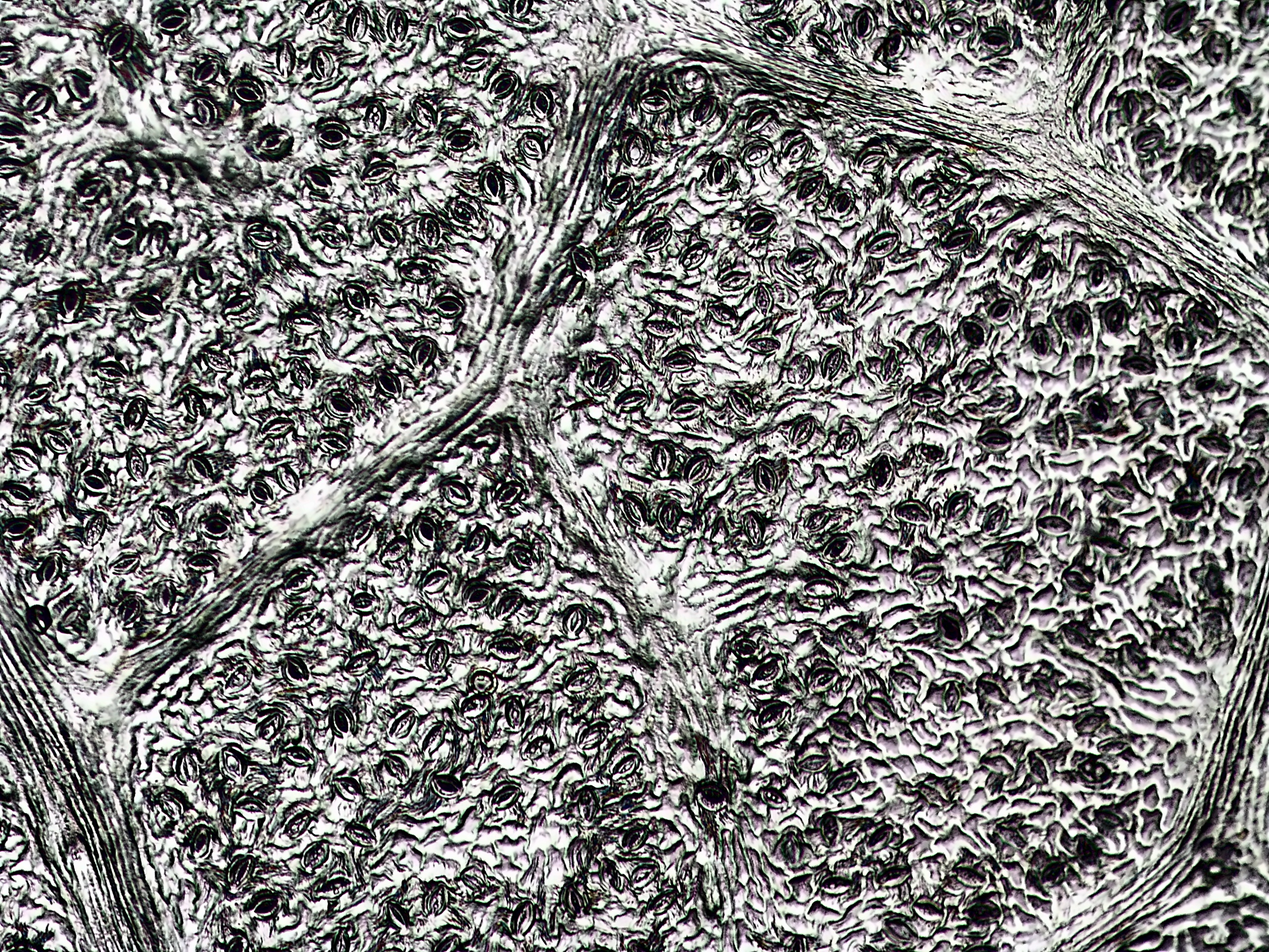stomata: (61, 66, 95, 103), (882, 915, 922, 946), (1065, 299, 1096, 339), (101, 22, 133, 60), (1185, 146, 1216, 185), (256, 125, 292, 158), (937, 609, 969, 644), (115, 592, 146, 628), (1103, 476, 1140, 506), (58, 280, 85, 321), (316, 118, 351, 149), (131, 291, 166, 322), (694, 782, 730, 812), (803, 574, 844, 600), (422, 880, 450, 918), (239, 368, 278, 395), (187, 824, 215, 861), (122, 396, 149, 434), (235, 794, 273, 821), (509, 899, 536, 937), (1077, 759, 1113, 787), (344, 648, 381, 675), (1195, 299, 1221, 337), (245, 220, 279, 249), (1163, 326, 1192, 360), (1116, 91, 1145, 125), (173, 751, 201, 786), (388, 704, 416, 739), (656, 497, 684, 532), (782, 354, 813, 385), (942, 491, 973, 522), (750, 655, 781, 686), (641, 218, 671, 250), (1224, 181, 1253, 214), (424, 640, 452, 674), (1104, 294, 1129, 332), (1194, 432, 1232, 457), (316, 221, 351, 248), (398, 255, 433, 282), (681, 456, 716, 483), (530, 84, 557, 119), (230, 853, 254, 892), (1146, 452, 1176, 483), (795, 173, 827, 202), (125, 446, 150, 483), (789, 415, 817, 448), (479, 166, 506, 200), (662, 346, 696, 373), (755, 458, 779, 496), (1208, 28, 1232, 66), (330, 703, 356, 738), (374, 368, 404, 398), (249, 895, 285, 920), (822, 534, 852, 564), (150, 502, 179, 533), (578, 720, 609, 749), (808, 662, 837, 693), (612, 392, 651, 415), (224, 663, 252, 695), (887, 667, 919, 695), (35, 552, 62, 585), (219, 748, 246, 781), (334, 775, 367, 802), (622, 492, 646, 529), (869, 454, 893, 491), (430, 772, 464, 798), (821, 347, 846, 382), (82, 511, 107, 546), (421, 722, 446, 757), (897, 499, 932, 524), (343, 281, 371, 312), (303, 168, 334, 196), (327, 391, 358, 419), (571, 244, 599, 275), (286, 604, 317, 632), (410, 337, 437, 369), (24, 235, 51, 267), (1154, 69, 1190, 93), (1012, 234, 1039, 266), (960, 316, 987, 348), (1132, 394, 1164, 421), (311, 878, 352, 899), (7, 444, 40, 470), (1119, 353, 1156, 376), (592, 358, 617, 392), (670, 398, 704, 423), (386, 9, 411, 43), (362, 161, 397, 185), (605, 176, 635, 204), (235, 77, 265, 105), (312, 47, 336, 82), (282, 655, 310, 685), (158, 791, 188, 819), (756, 702, 791, 726), (81, 468, 112, 495), (257, 711, 284, 742), (301, 840, 328, 871), (1171, 495, 1202, 522), (909, 562, 947, 584), (745, 212, 777, 238), (835, 426, 861, 458), (282, 569, 314, 595), (567, 667, 599, 693), (909, 384, 945, 407), (220, 289, 253, 314), (199, 514, 232, 539), (562, 884, 587, 917), (981, 425, 1014, 450), (1030, 324, 1055, 357), (489, 635, 523, 659), (464, 527, 492, 556), (494, 592, 523, 620), (383, 752, 411, 781), (1085, 396, 1113, 425), (21, 85, 48, 115), (43, 428, 73, 455), (1162, 4, 1192, 31), (415, 214, 441, 245), (449, 200, 480, 226), (742, 141, 773, 167), (644, 315, 679, 338), (3, 483, 38, 506), (941, 154, 973, 179), (627, 134, 652, 166), (444, 127, 476, 152), (1053, 413, 1073, 453), (277, 39, 296, 81), (156, 8, 189, 32), (820, 815, 844, 848), (680, 243, 710, 269), (202, 349, 233, 374), (710, 302, 741, 327), (441, 480, 472, 505), (878, 865, 913, 887), (957, 863, 989, 887), (3, 516, 36, 539), (742, 514, 765, 547), (921, 325, 944, 358), (365, 100, 386, 136), (523, 735, 551, 762), (839, 627, 867, 654), (868, 695, 895, 723), (940, 678, 961, 714), (819, 287, 848, 313), (193, 57, 219, 86), (866, 824, 892, 853), (812, 29, 841, 55), (915, 895, 945, 920), (184, 388, 208, 419), (982, 505, 1006, 536), (916, 440, 947, 464), (709, 158, 732, 190), (828, 770, 860, 793), (347, 8, 368, 43), (692, 96, 719, 123), (614, 752, 640, 780), (446, 16, 479, 38), (154, 582, 176, 615), (346, 823, 379, 845), (602, 859, 624, 892), (382, 538, 411, 563), (76, 178, 105, 203), (461, 693, 490, 718), (633, 862, 658, 891), (744, 108, 774, 132), (819, 875, 855, 895), (765, 19, 795, 43), (1003, 539, 1023, 575), (288, 313, 322, 334), (577, 787, 598, 821), (109, 552, 140, 575), (386, 900, 409, 931), (970, 899, 1001, 922), (262, 416, 294, 438), (348, 591, 380, 613), (1088, 261, 1110, 293), (652, 439, 671, 476), (491, 70, 517, 97), (193, 97, 218, 125), (413, 100, 438, 128), (945, 13, 973, 38), (371, 222, 400, 246), (868, 234, 897, 258), (945, 230, 974, 254), (0, 154, 29, 178), (27, 605, 51, 634), (797, 751, 830, 772), (719, 270, 749, 293), (759, 785, 789, 808), (320, 433, 351, 455), (96, 359, 127, 381), (784, 832, 806, 863), (1042, 859, 1064, 890), (564, 605, 584, 639), (150, 223, 170, 257), (520, 134, 545, 161), (497, 481, 521, 509), (283, 811, 311, 835), (804, 508, 832, 532), (1032, 253, 1053, 285), (275, 462, 298, 491), (753, 283, 772, 318), (857, 148, 887, 170), (640, 92, 670, 114), (493, 783, 519, 808), (623, 825, 648, 851), (424, 567, 448, 594), (305, 0, 333, 23), (286, 746, 318, 766), (785, 134, 807, 163), (1140, 290, 1162, 319), (729, 385, 750, 415), (1037, 515, 1070, 534), (1136, 127, 1161, 152), (416, 518, 440, 544), (292, 358, 312, 389), (351, 515, 371, 546), (831, 187, 853, 215), (434, 297, 463, 318), (752, 336, 781, 357), (1234, 89, 1255, 118), (884, 27, 903, 59), (462, 865, 487, 889), (787, 247, 813, 270), (0, 119, 27, 141), (507, 697, 526, 728), (461, 49, 489, 70), (399, 604, 422, 629), (983, 27, 1008, 50), (989, 297, 1014, 320), (511, 542, 533, 568), (194, 259, 216, 285), (331, 925, 352, 952), (916, 182, 939, 206), (248, 479, 271, 503), (113, 223, 136, 247), (225, 929, 249, 952), (188, 553, 217, 572), (24, 382, 49, 404), (0, 39, 19, 67), (1190, 374, 1218, 393), (905, 0, 927, 24), (464, 584, 488, 605), (853, 9, 870, 36), (509, 0, 534, 18), (883, 351, 898, 381), (730, 638, 756, 655), (190, 459, 208, 483), (436, 935, 460, 952)
